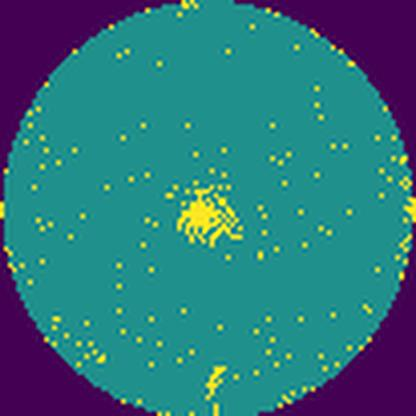Center: (175, 183, 248, 251)
